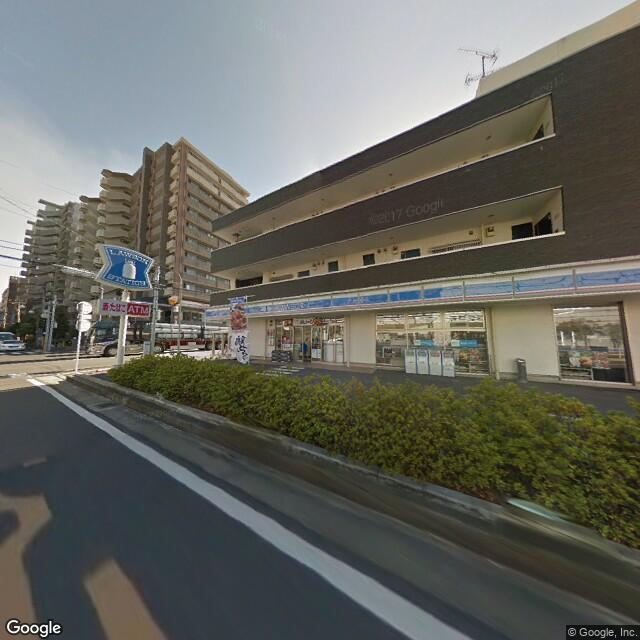lawson: (208, 255, 639, 325), (100, 241, 151, 293)
